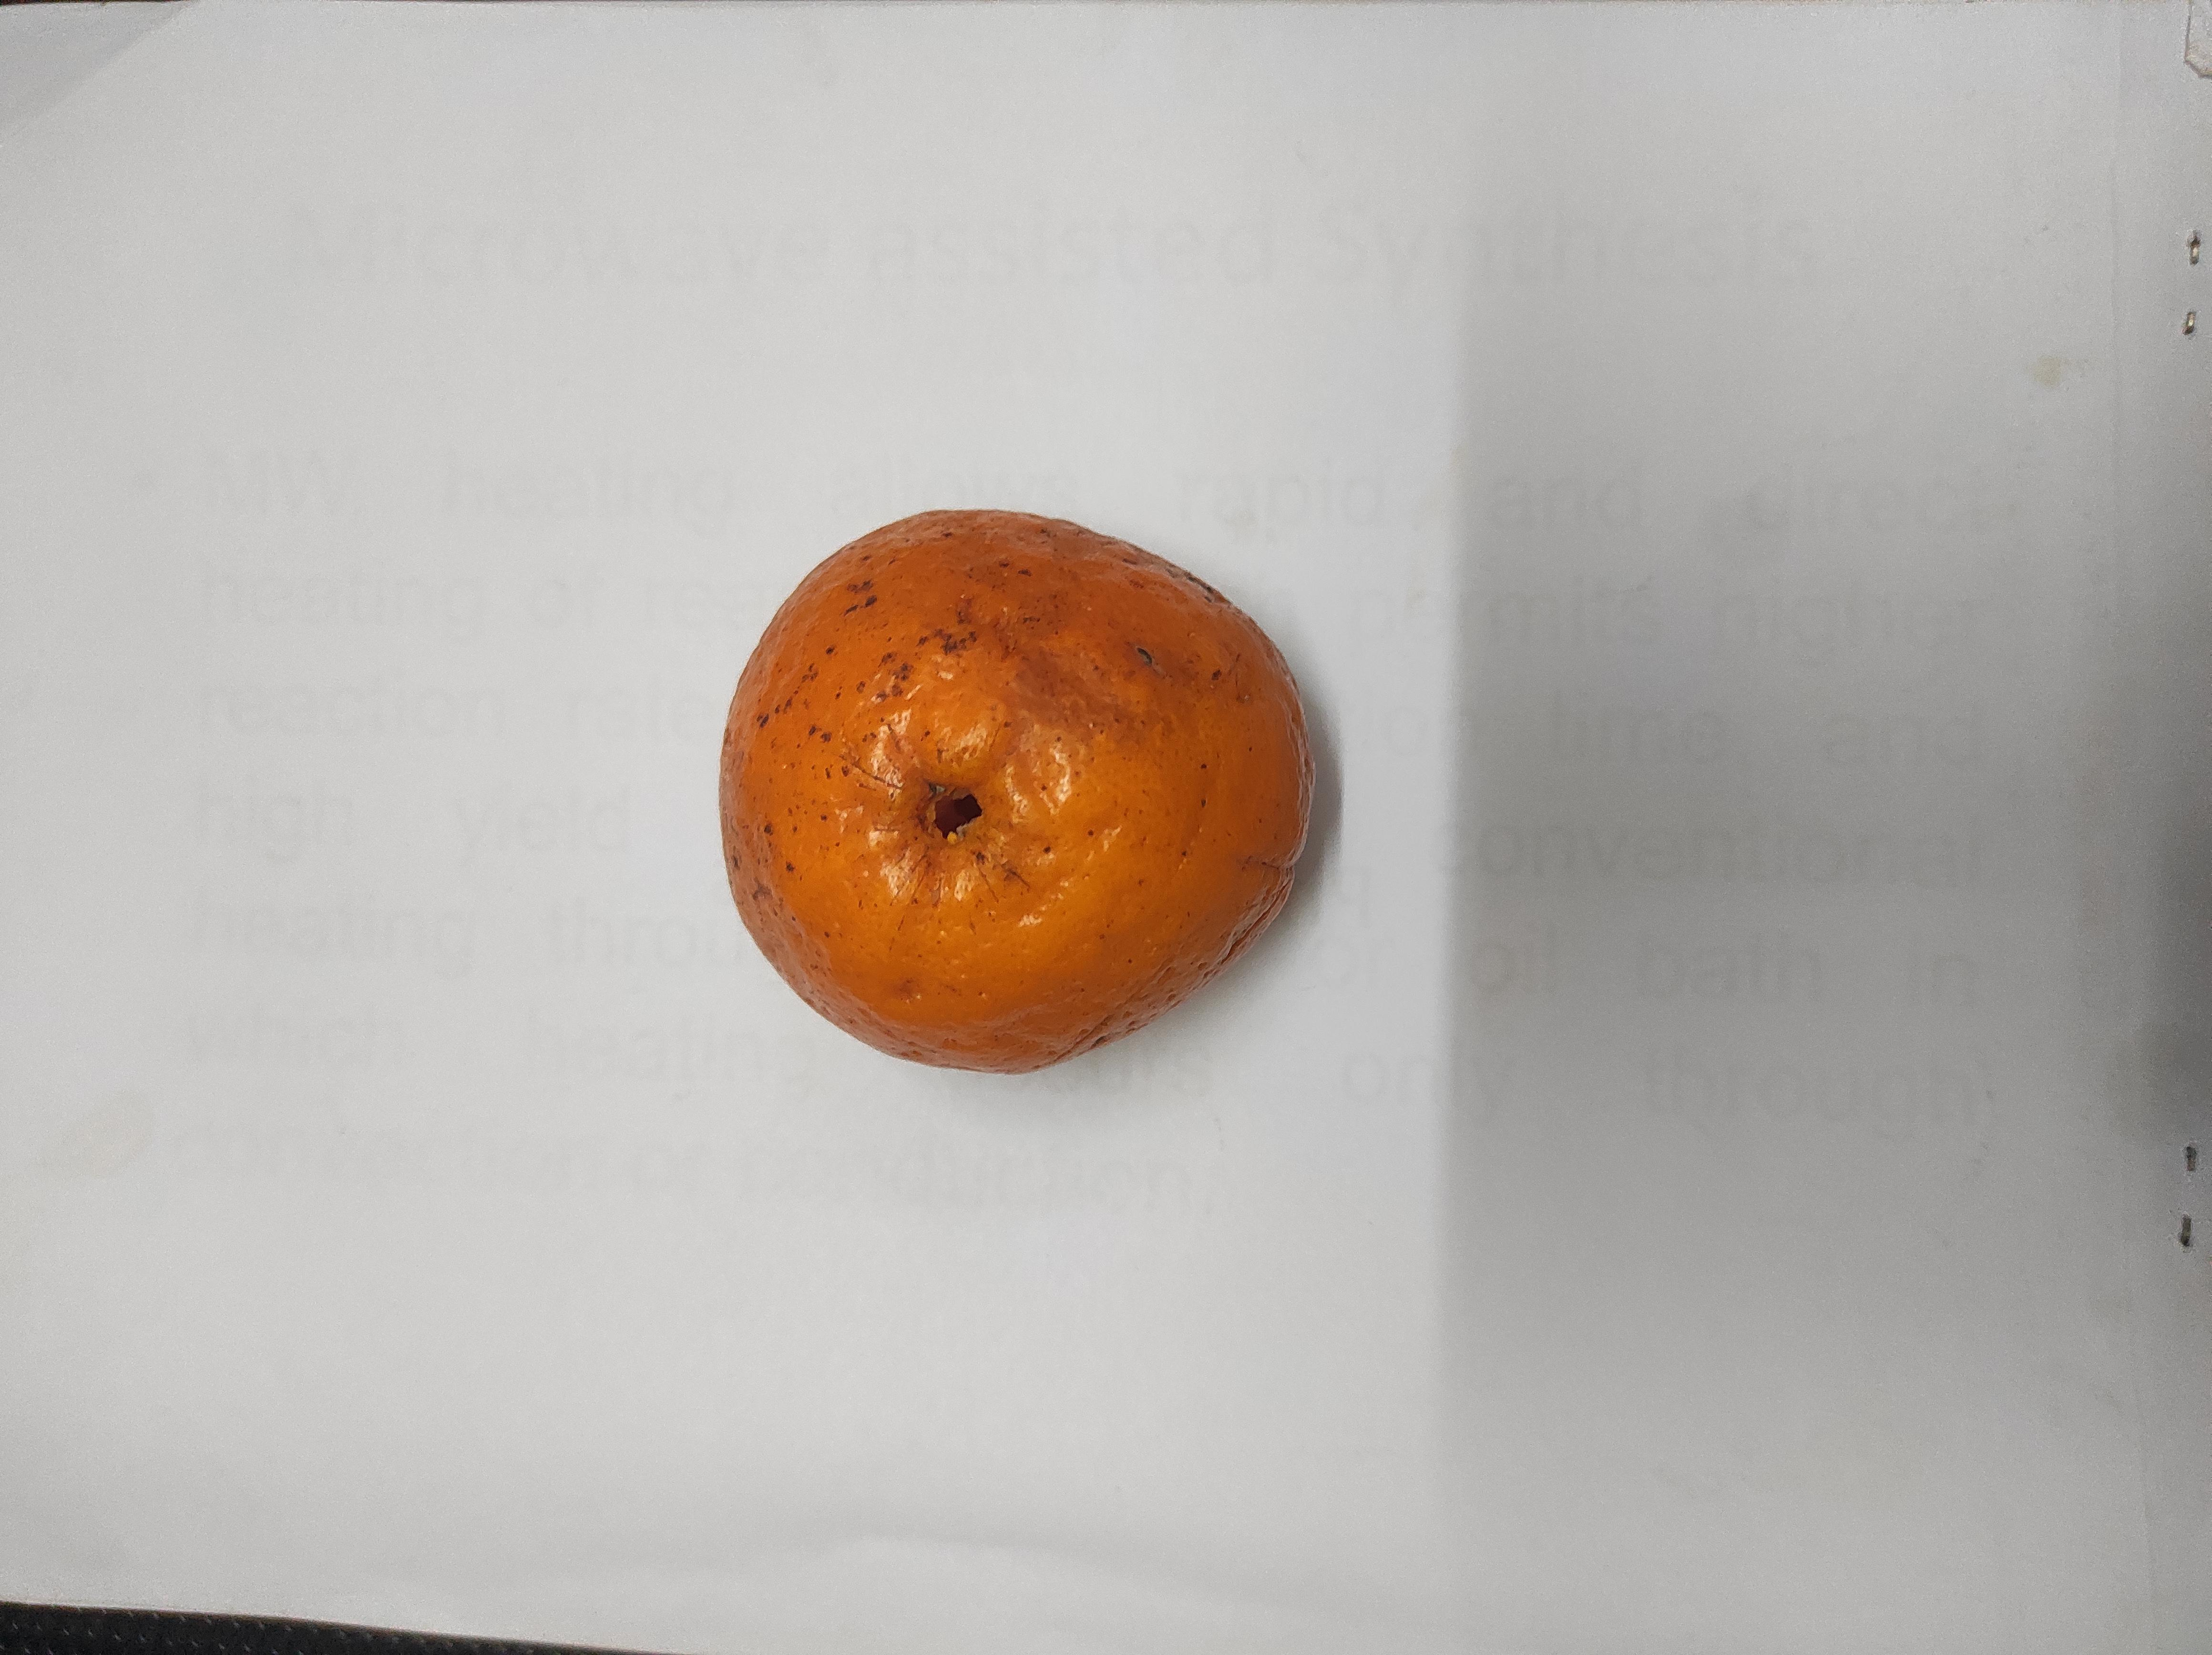Unripe: (777, 539, 1523, 984)
